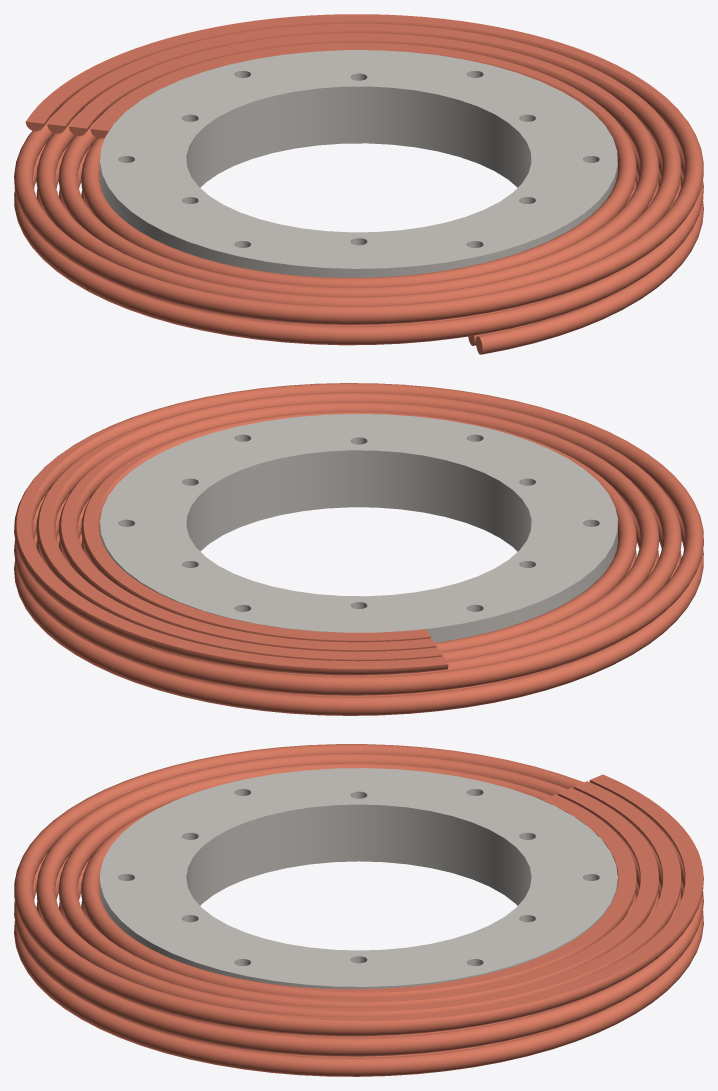
The model's file is electromagnet.glb.
3 views of the same model, one above another, from view 1: azimuth 30°, elevation 25°; view 2: azimuth 150°, elevation 25°; view 3: azimuth 270°, elevation 25° (orthographic).
Visible parts, largest first — view 1: PRT - Electromagnet Rev 1 - SIEL Docking-1; view 2: PRT - Electromagnet Rev 1 - SIEL Docking-1; view 3: PRT - Electromagnet Rev 1 - SIEL Docking-1.
Boxes of the visible parts, x1,y1,x2,y2 form: PRT - Electromagnet Rev 1 - SIEL Docking-1: (14, 14, 703, 354); PRT - Electromagnet Rev 1 - SIEL Docking-1: (14, 383, 703, 715); PRT - Electromagnet Rev 1 - SIEL Docking-1: (14, 744, 703, 1076).
Size of the model in its own units: 0.1099 by 0.0109 by 0.1099.
